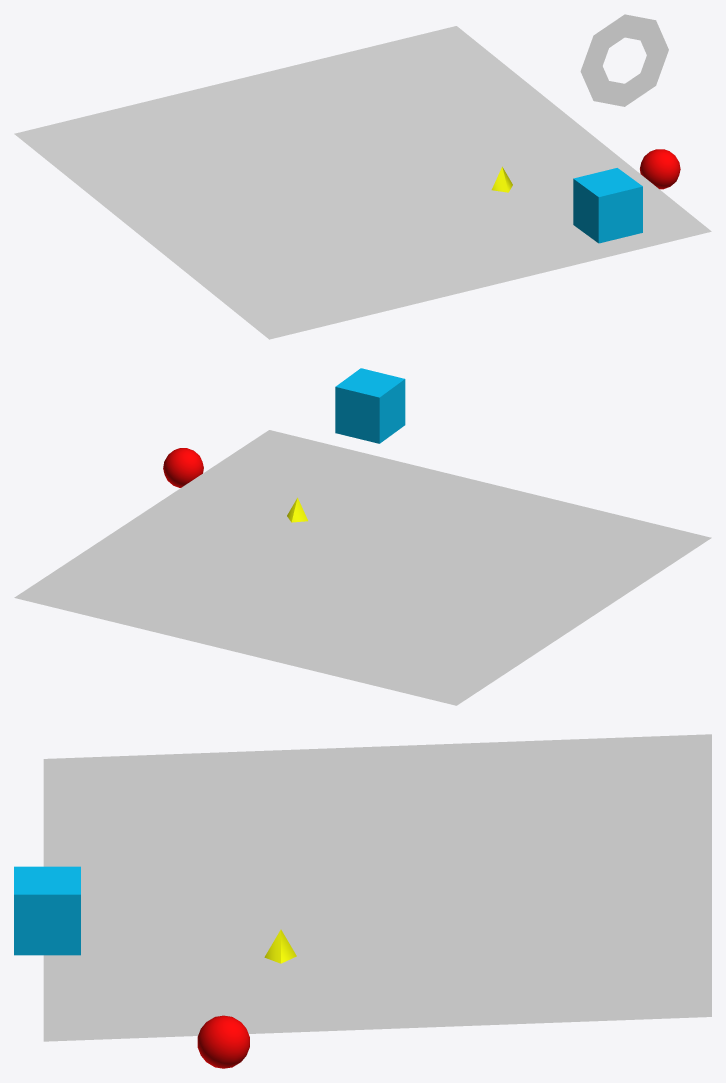
The picture shows the model from 3 angles, top to bottom: view 1: azimuth 30°, elevation 25°; view 2: azimuth 150°, elevation 25°; view 3: azimuth 270°, elevation 25°; orthographic projection. The views are drawn at different scales.
Parts seen in each view (by area): view 1: Plane, Ring, Box, Icosahedron; view 2: Plane, Box, Icosahedron; view 3: Plane, Box, Icosahedron, Cylinder.
Boxes of the visible parts, x1,y1,x2,y2 form: Plane: (14,26,711,339); Ring: (580,14,668,106); Box: (573,168,642,243); Icosahedron: (640,149,680,189); Plane: (14,430,711,705); Box: (335,368,405,443); Icosahedron: (163,448,203,487); Plane: (43,734,711,1041); Box: (14,866,80,955); Icosahedron: (197,1015,249,1068); Cylinder: (264,929,296,963).
Bounding box in the file's own units: 11.9 × 2.7 × 10.43.
